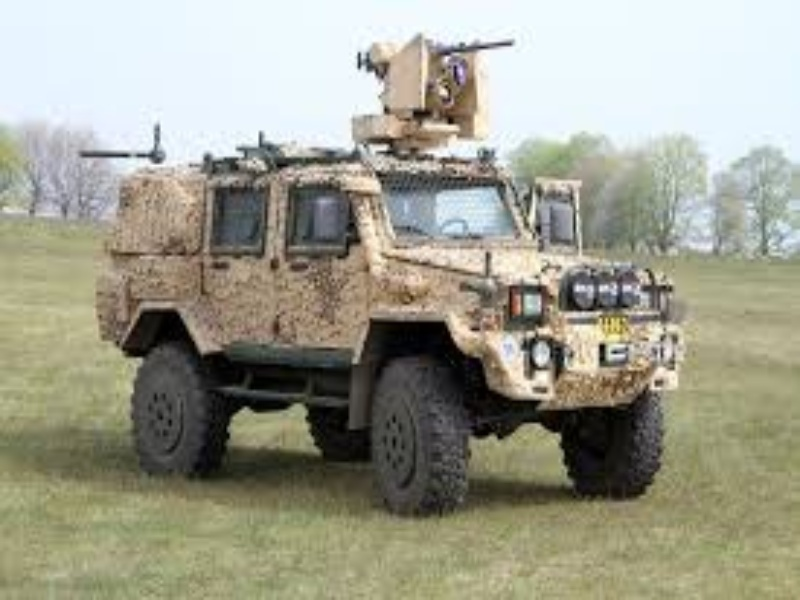jeep: (77, 32, 686, 525)
